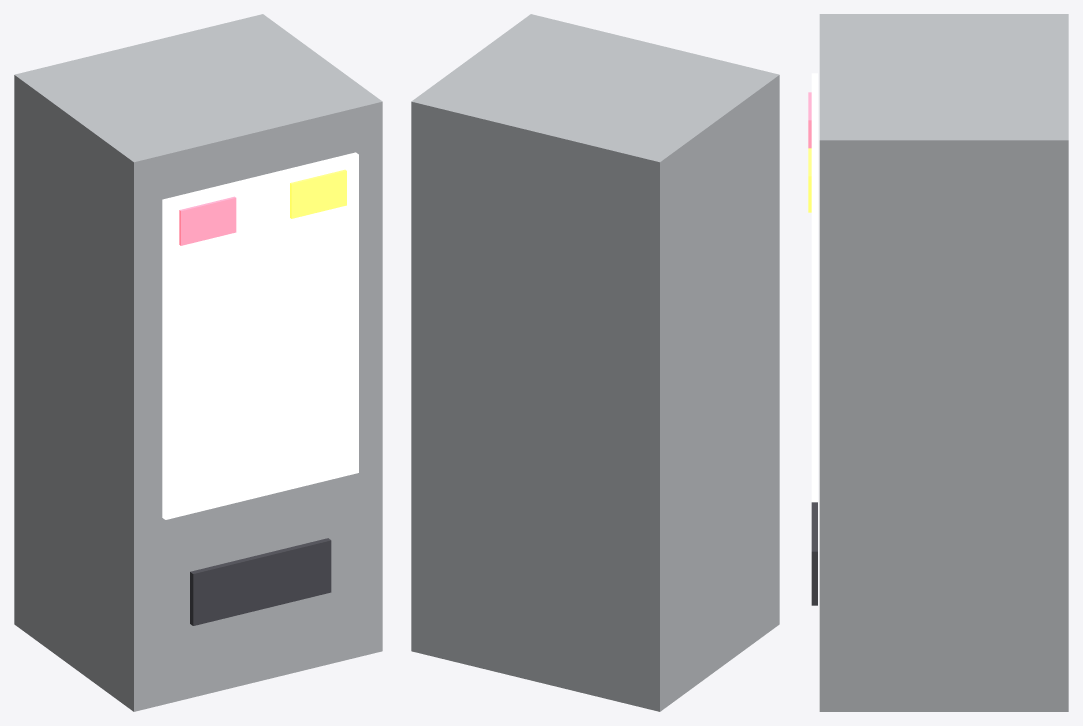
File: vending_machine_lit.glb
3 renders of one model, left to right at view 1: azimuth 30°, elevation 25°; view 2: azimuth 150°, elevation 25°; view 3: azimuth 270°, elevation 25°, orthographic. The views are drawn at different scales.
Parts seen in each view (by area): view 1: vending_machine_lit; view 2: vending_machine_lit; view 3: vending_machine_lit.
Boxes of the visible parts, x1,y1,x2,y2 form: vending_machine_lit: [14, 14, 382, 711]; vending_machine_lit: [411, 14, 779, 711]; vending_machine_lit: [808, 14, 1068, 711].
Bounding box in the file's own units: 0.9 × 1.9 × 0.785.
